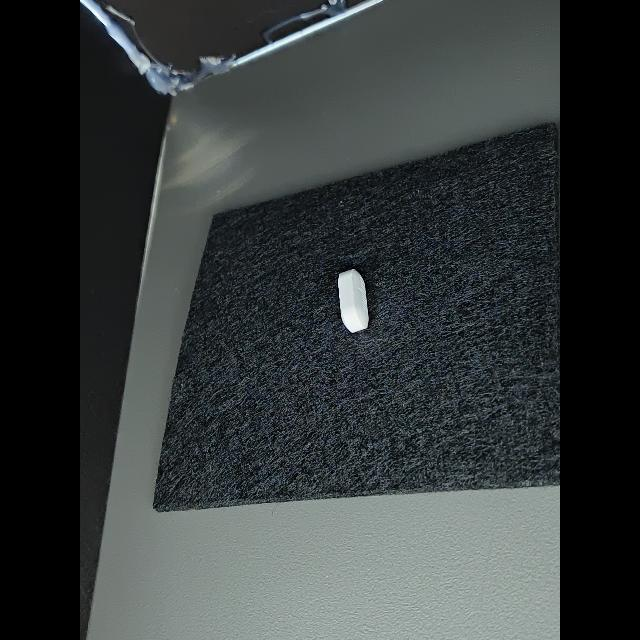Intact Pill: (338, 269, 369, 333)
